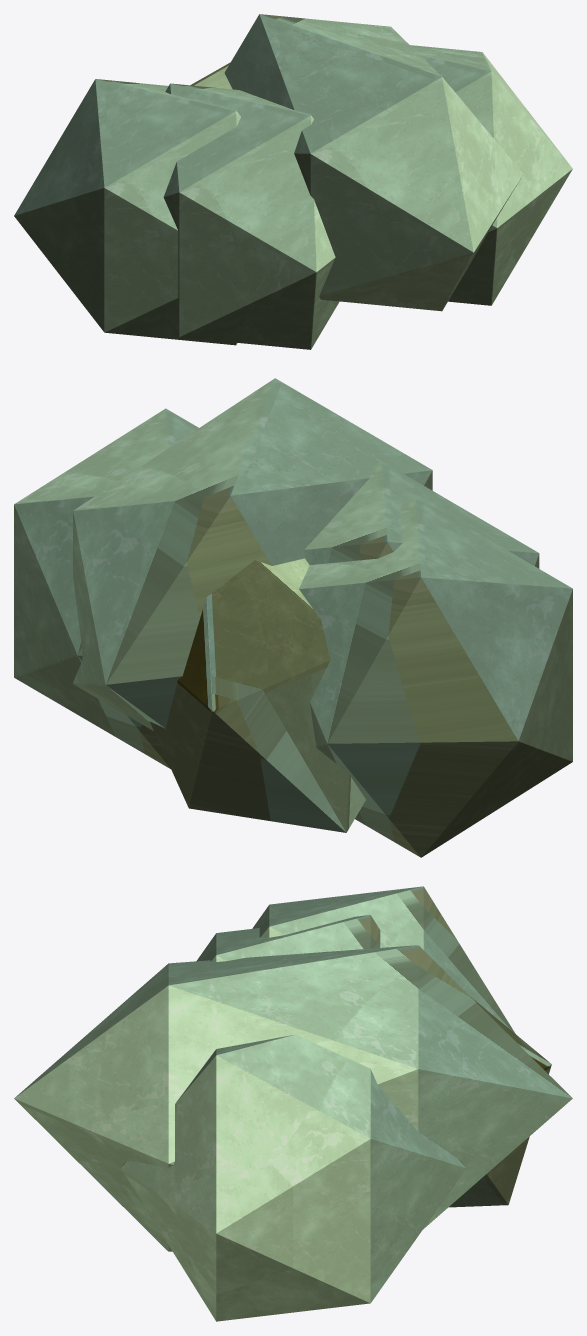
File: bush.fbx
The picture shows the model from 3 angles, top to bottom: view 1: azimuth 30°, elevation 25°; view 2: azimuth 150°, elevation 25°; view 3: azimuth 270°, elevation 25°; orthographic projection. The views are drawn at different scales.
Visible parts, largest first — view 1: pPlatonic1, pPlatonic4, pPlatonic5, pPlatonic3, pPlatonic2; view 2: pPlatonic5, pPlatonic1, pPlatonic2, pPlatonic3, pPlatonic4; view 3: pPlatonic1, pPlatonic3, pPlatonic5, pPlatonic4, pPlatonic2.
Part boxes in pixels (x1,y1,x2,y2): pPlatonic1: [224, 14, 523, 311]; pPlatonic4: [163, 83, 339, 349]; pPlatonic5: [14, 79, 240, 345]; pPlatonic3: [410, 45, 572, 305]; pPlatonic2: [190, 62, 232, 89]; pPlatonic5: [299, 496, 572, 857]; pPlatonic1: [73, 378, 432, 730]; pPlatonic2: [149, 558, 365, 832]; pPlatonic3: [14, 408, 198, 768]; pPlatonic4: [304, 461, 539, 568]; pPlatonic1: [14, 945, 572, 1251]; pPlatonic3: [121, 1034, 465, 1321]; pPlatonic5: [252, 886, 515, 1033]; pPlatonic4: [196, 915, 380, 961]; pPlatonic2: [449, 997, 551, 1207].
Bounding box in the file's own units: 465 × 248 × 424.
1 material, 1 textured.
